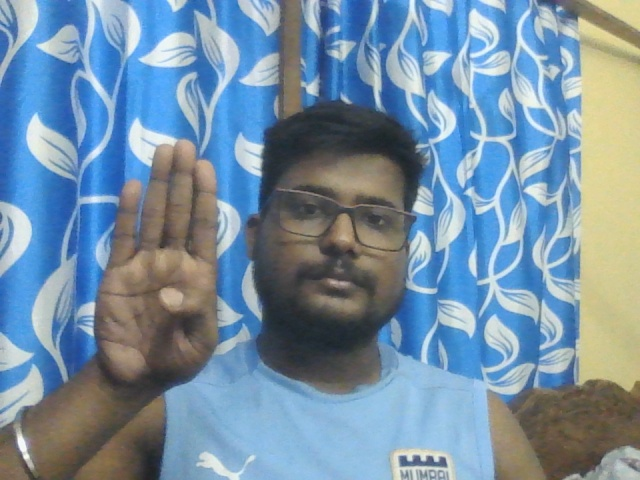B: (93, 138, 219, 390)
